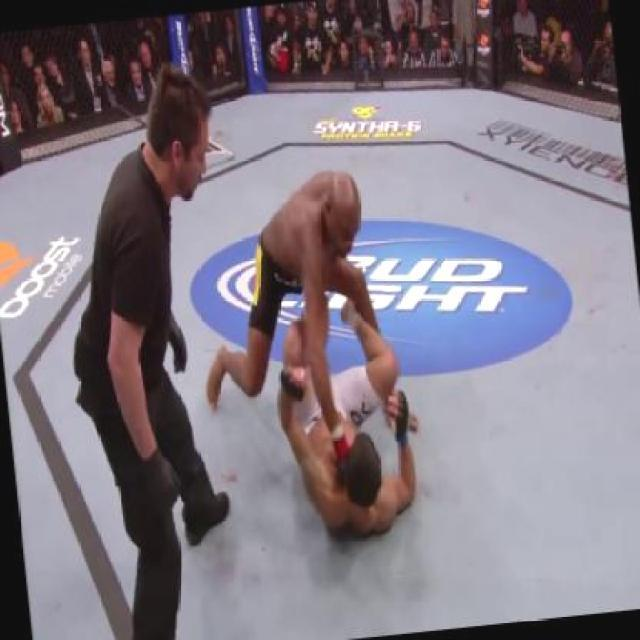fight: (240, 161, 431, 550)
non-fight: (42, 53, 260, 567)
